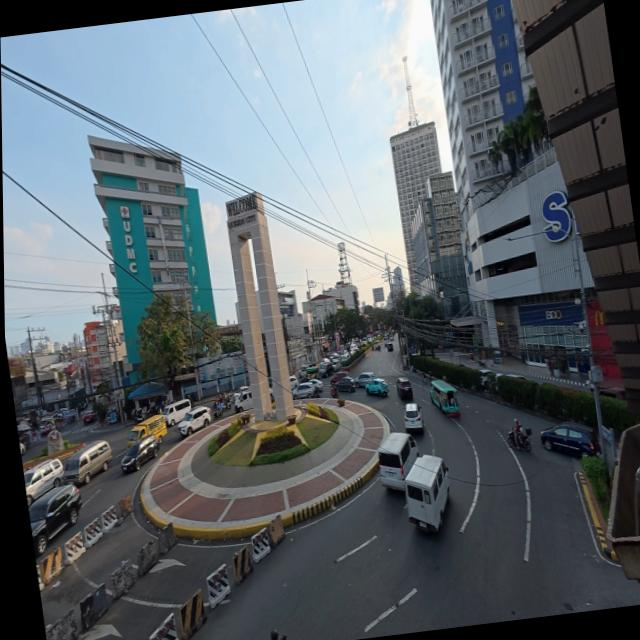car: (543, 422, 599, 464), (119, 432, 166, 475), (399, 402, 424, 438), (291, 378, 324, 402), (329, 374, 358, 396), (364, 376, 389, 396)
vans: (401, 448, 459, 538)
